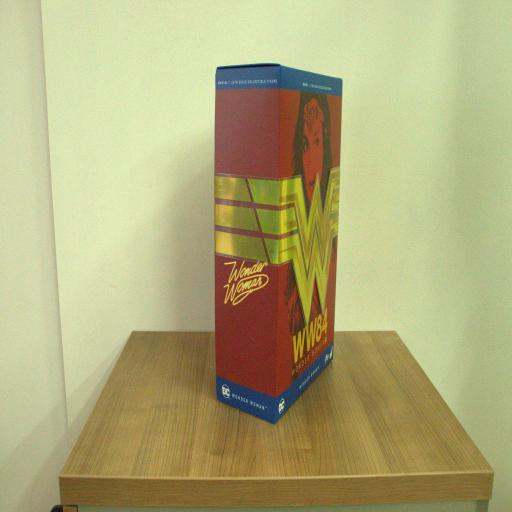WonderWoman: (215, 62, 342, 423)
